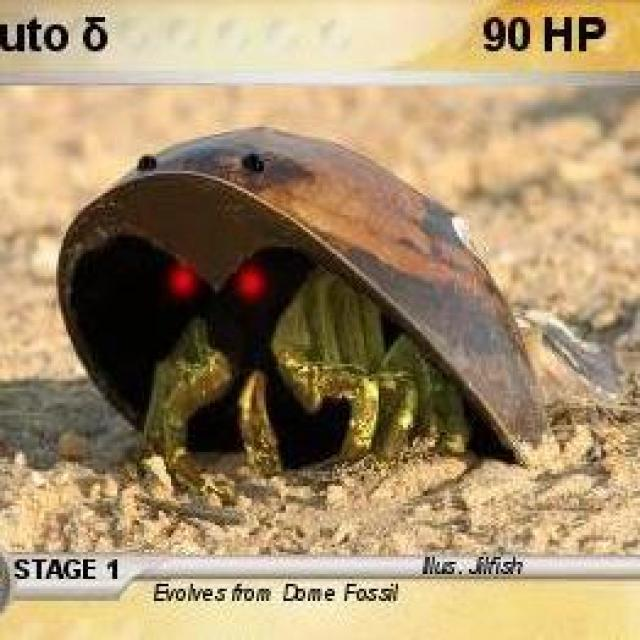Kabuto: (59, 124, 551, 462)
